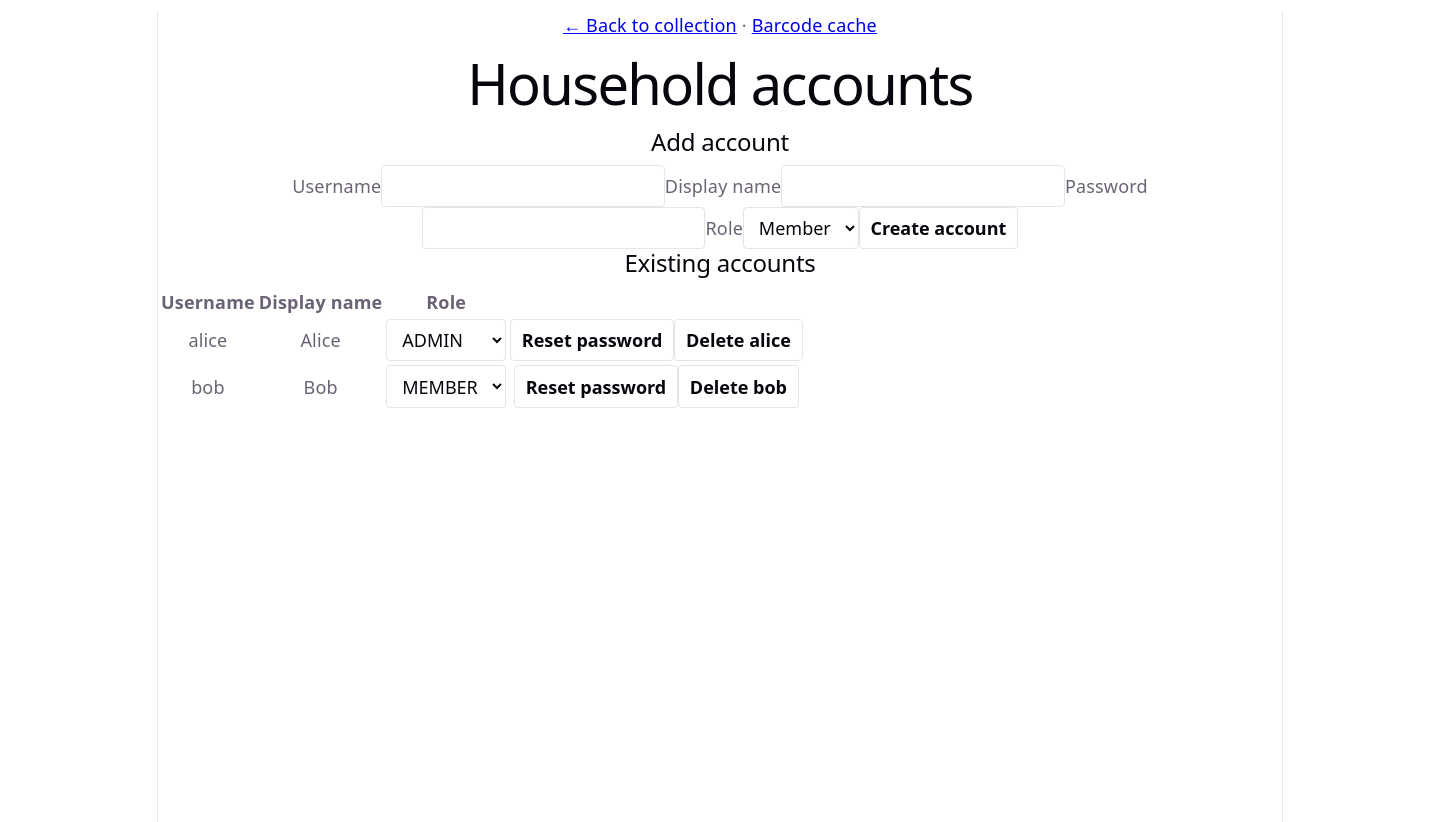
Test: AdminUsersPage › shows a server error (e.g. last-admin protection) instead of crashing
This screenshot has width=1440, height=822.
Check: the text "alice" is shown, box 160,318 -> 256,362
Click the button "Delete alice" at (738, 340), box 674,319 -> 803,361
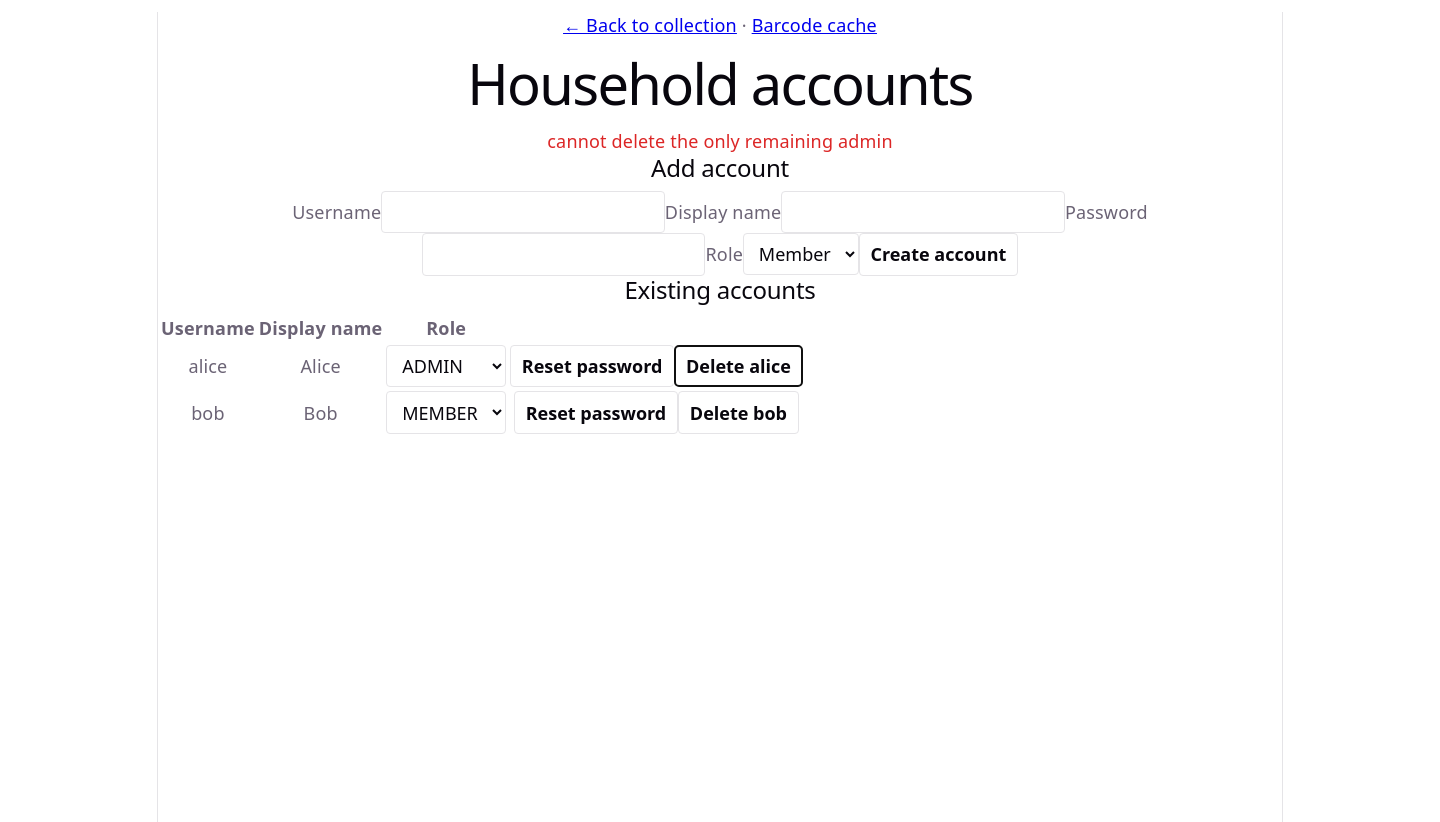
Check: the text "cannot delete the only remaining admin" is shown, box 547,129 -> 893,153
